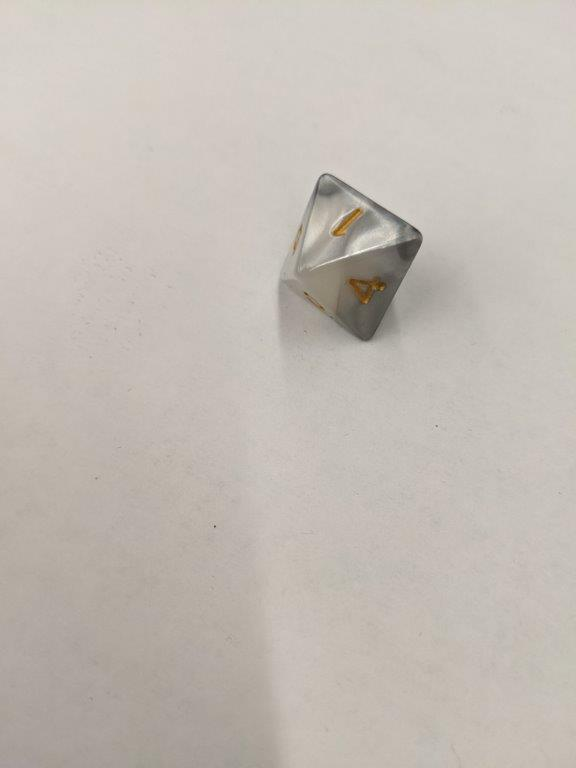d8-1: (276, 171, 422, 344)
